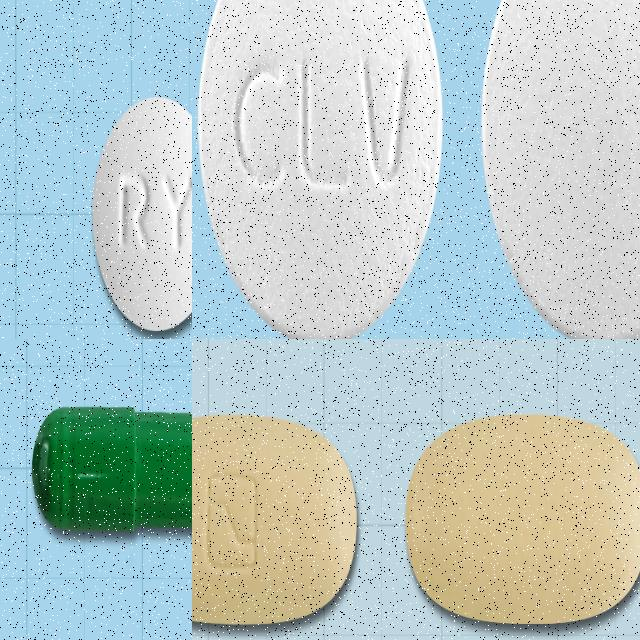Cipurocin: (87, 89, 192, 339)
Claroma: (404, 412, 640, 625), (192, 411, 359, 628)
Clevote: (197, 0, 443, 339), (479, 0, 640, 339)
Doxiramycin Cap: (32, 404, 192, 537)
